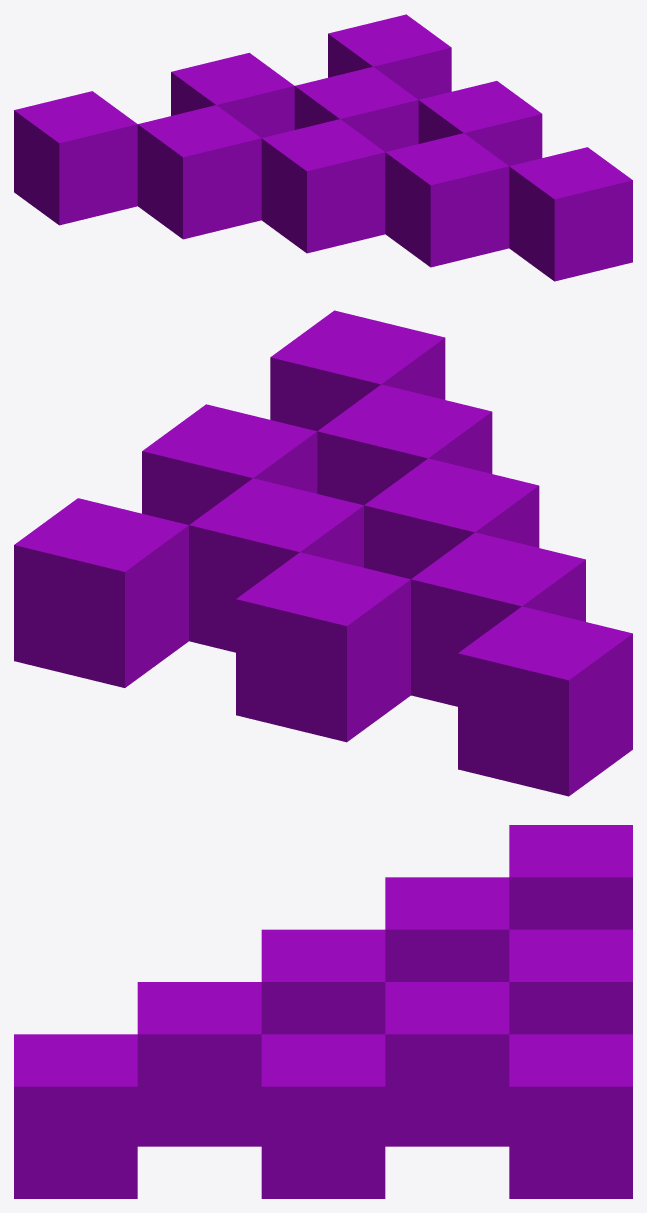
File: ZoneAreaTri.obj
3 views of the same model, one above another, from view 1: azimuth 30°, elevation 25°; view 2: azimuth 150°, elevation 25°; view 3: azimuth 270°, elevation 25° (orthographic). The views are drawn at different scales.
Size of the model in its own units: 0.5 by 0.1 by 0.5.
Materials: 1 (1 with a texture image).
